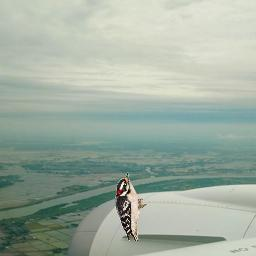Woodpecker: (115, 172, 147, 241)
